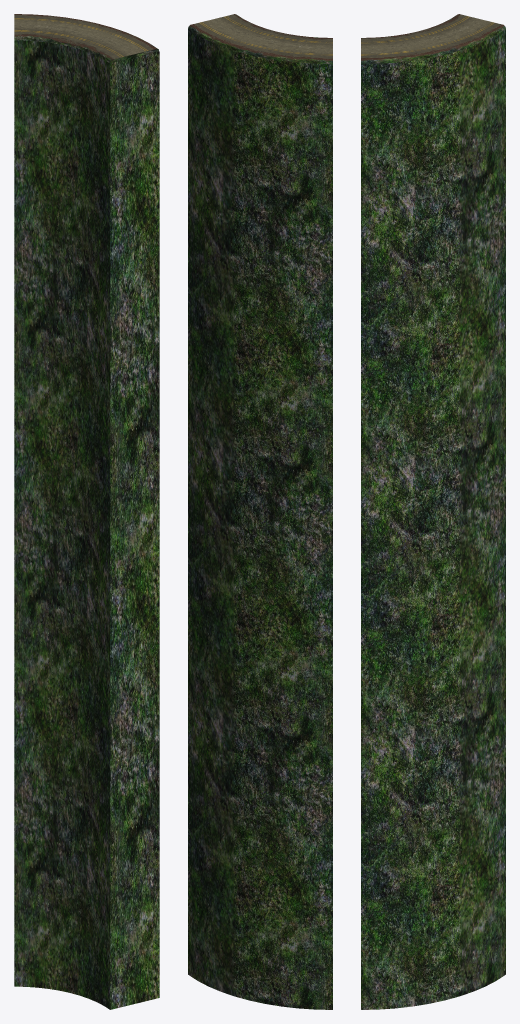
The model's file is 60 bend.fbx.
3 renders of one model, left to right at view 1: azimuth 30°, elevation 25°; view 2: azimuth 210°, elevation 25°; view 3: azimuth 270°, elevation 25°, orthographic.
Visible parts, largest first — view 1: 60 bend; view 2: 60 bend; view 3: 60 bend.
Part boxes in pixels (left/top/right/bottom): 60 bend: left=14, top=14, right=159, bottom=1009; 60 bend: left=188, top=14, right=332, bottom=1009; 60 bend: left=361, top=14, right=505, bottom=1009.
Size of the model in its own units: 807 by 7538 by 1043.
